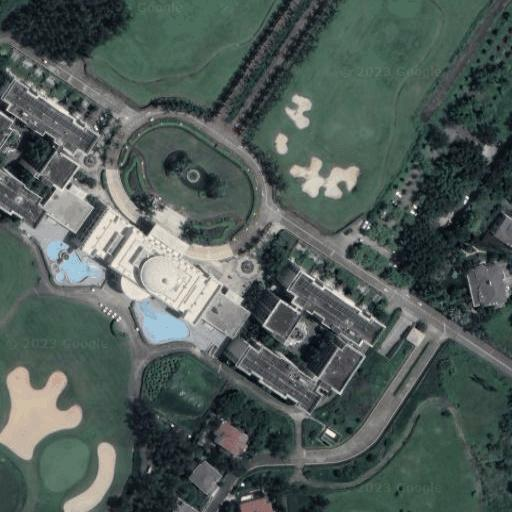building: (59, 194, 202, 313), (265, 258, 368, 336), (216, 332, 304, 402), (298, 331, 347, 381), (181, 279, 231, 327), (19, 173, 71, 219), (465, 261, 512, 306), (10, 137, 58, 178), (243, 288, 282, 328), (213, 419, 250, 457), (188, 460, 223, 495), (488, 212, 512, 247), (239, 497, 272, 512), (174, 498, 200, 512), (406, 328, 425, 347)
